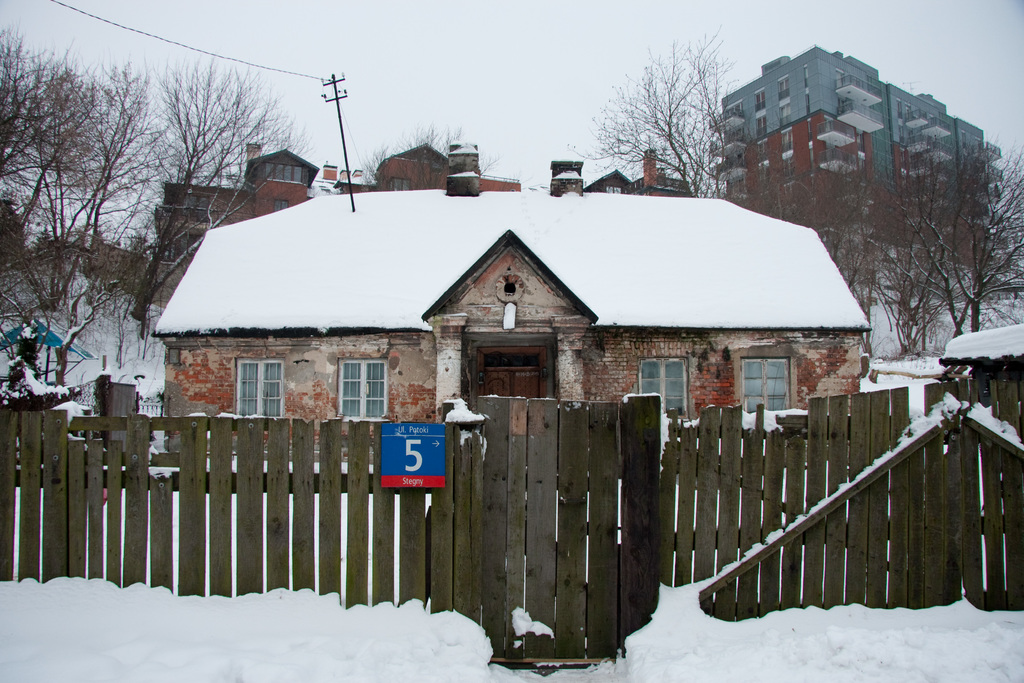Tree: (0, 24, 1024, 408)
